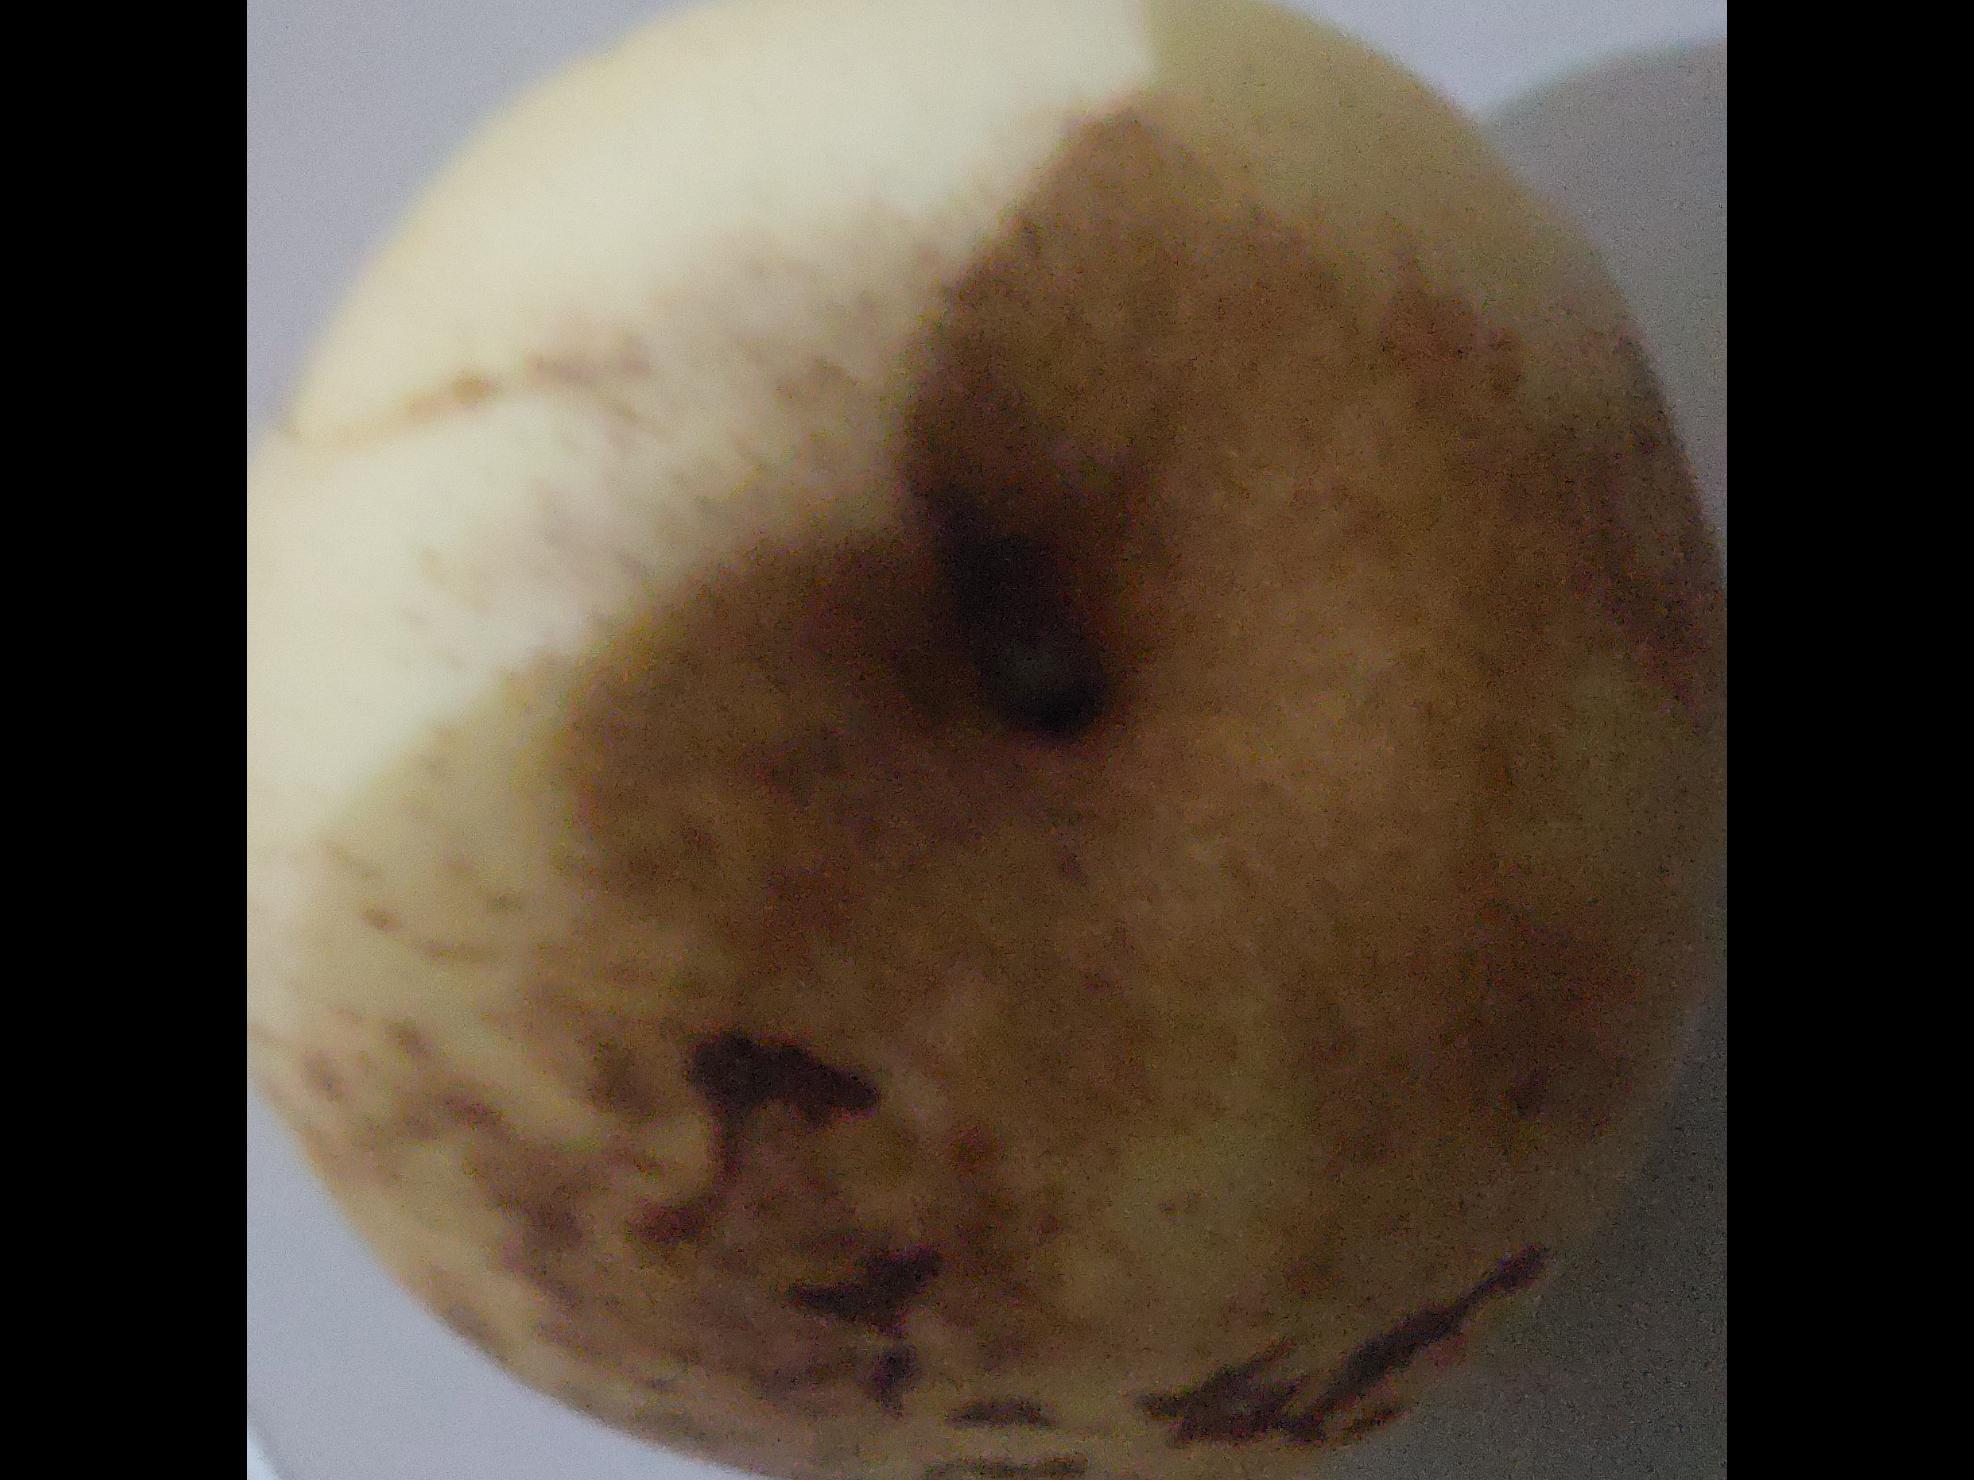Bad Pear: (247, 0, 1727, 1480)
